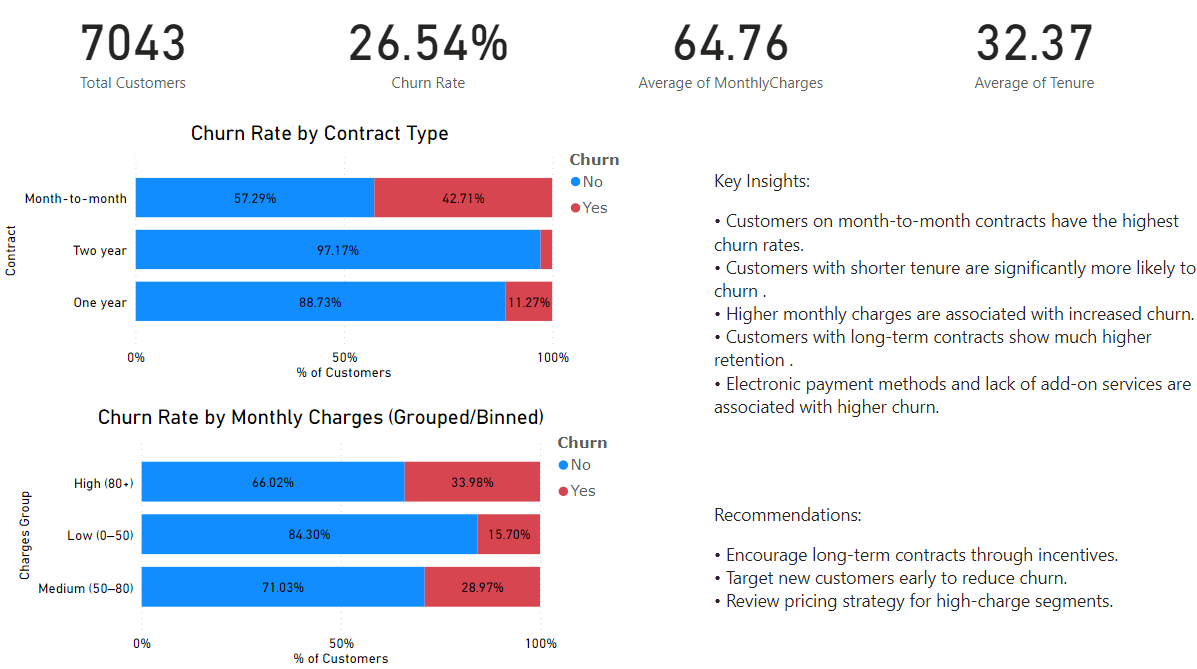

Layout of this report page (visuals, bound fields, positions):
{"tool":"powerbi","page":{"name":"Executive Summary","canvas":[1280,720],"ordinal":0},"visuals":[{"type":"card","fields":{"Values":["Telco.Total Customers"]},"box":[0,0,287.3,110.5],"z":0},{"type":"card","fields":{"Values":["Telco.Churn Rate"]},"box":[311.3,0,292.8,110.5],"z":1000},{"type":"card","fields":{"Values":["Avg(Telco.MonthlyCharges)"]},"box":[626.2,0,307.6,110.5],"z":2000},{"type":"card","fields":{"Values":["Avg(Telco.Tenure)"]},"box":[954,0,296.5,110.5],"z":3000},{"type":"hundredPercentStackedBarChart","title":"Churn Rate by  Contract Type","fields":{"Category":["Telco.Contract"],"Series":["Telco.Churn"],"Y":["CountNonNull(Telco.Contract)"]},"box":[0,135.7,684.9,279.4],"z":4000},{"type":"hundredPercentStackedBarChart","title":"Churn Rate by Monthly Charges (Grouped/Binned)","fields":{"Category":["Telco.Charges Group"],"Series":["Telco.Churn"],"Y":["Telco.Total Customers"]},"box":[14.4,437.4,657.7,282.6],"z":5000},{"type":"textbox","box":[756.7,180.4,523.6,539.6],"z":6000}]}

Visuals, with their boxes in screenshot pixels (x1, y1, x2, y2), scaled from the page's 1280x720 canvas onto the 1197x669 screenshot:
card - Telco.Total Customers: select_region(0, 0, 269, 103)
card - Telco.Churn Rate: select_region(291, 0, 565, 103)
card - Avg(Telco.MonthlyCharges): select_region(586, 0, 873, 103)
card - Avg(Telco.Tenure): select_region(892, 0, 1169, 103)
"Churn Rate by  Contract Type" hundredPercentStackedBarChart: select_region(0, 126, 640, 386)
"Churn Rate by Monthly Charges (Grouped/Binned)" hundredPercentStackedBarChart: select_region(13, 406, 629, 668)
textbox: select_region(708, 168, 1196, 668)
